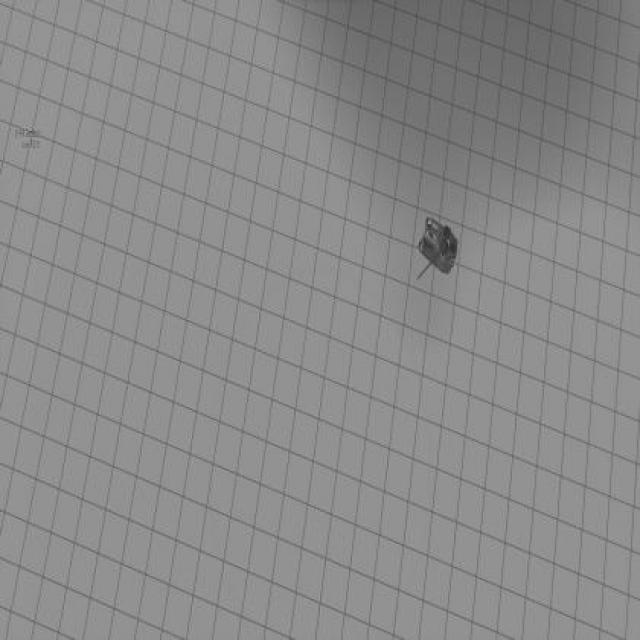tank: (416, 213, 460, 281)
